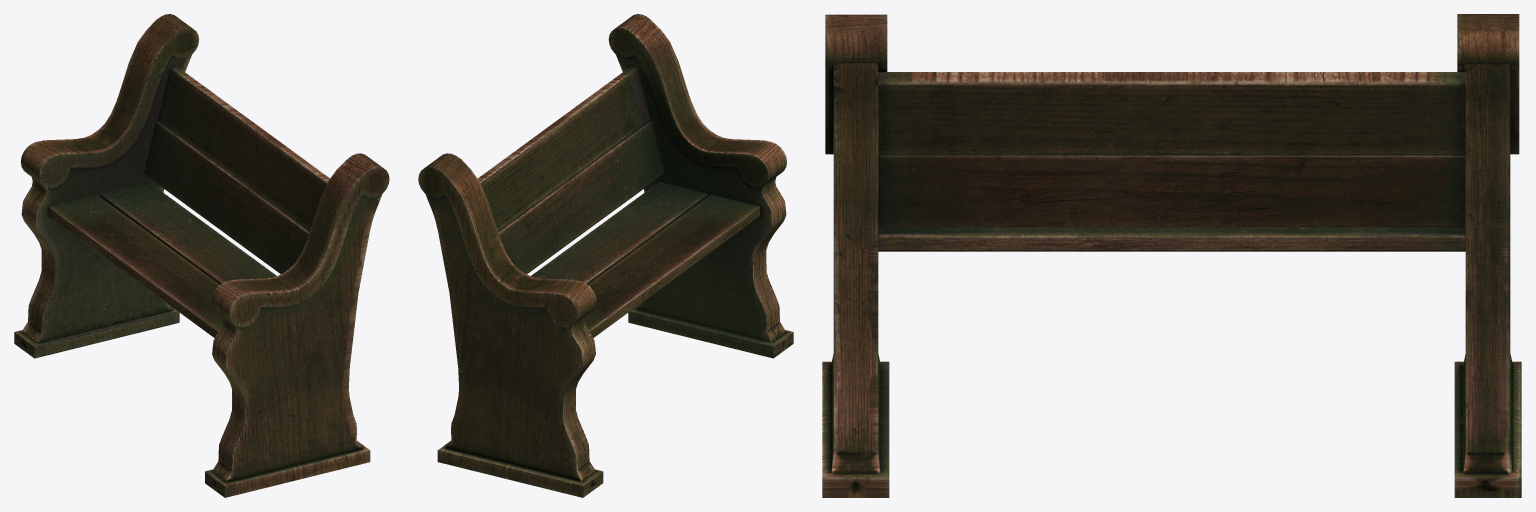
File: bench4.fbx
The picture shows the model from 3 angles, left to right: view 1: azimuth 30°, elevation 25°; view 2: azimuth 150°, elevation 25°; view 3: azimuth 270°, elevation 25°; orthographic projection. The views are drawn at different scales.
Parts seen in each view (by area): view 1: bench3; view 2: bench3; view 3: bench3.
Part boxes in pixels (<box>): bench3: <box>14,14,389,497</box>; bench3: <box>418,14,793,497</box>; bench3: <box>822,14,1521,497</box>.
Bounding box in the file's own units: 75.51 × 128 × 167.
